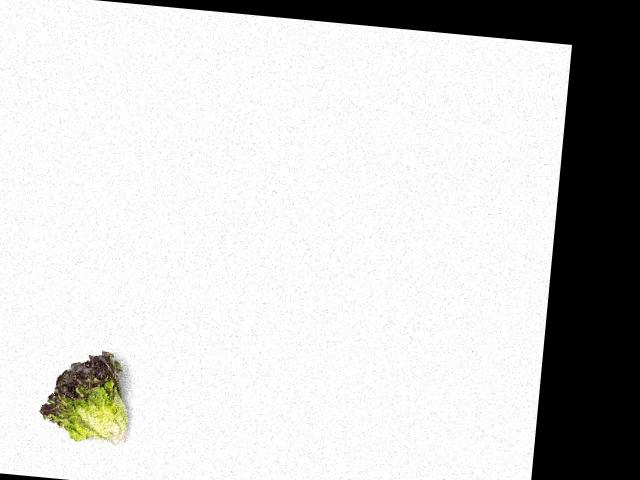lettuce: (38, 340, 135, 449)
